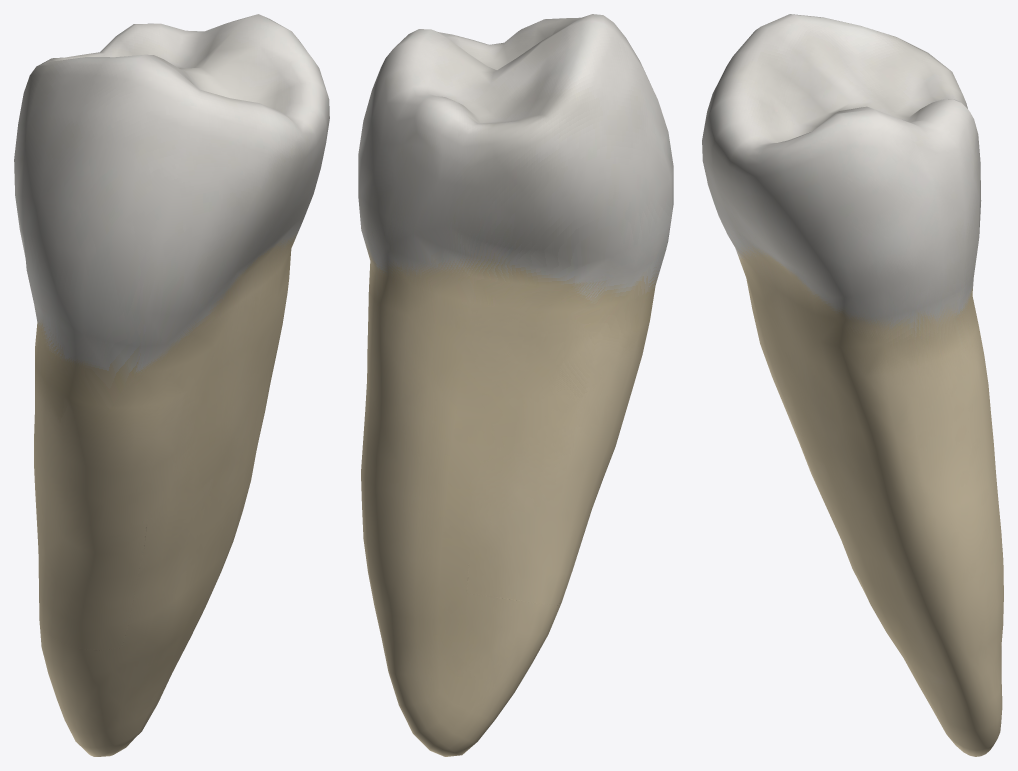
File: tooth-45.glb
The picture shows the model from 3 angles, left to right: view 1: azimuth 30°, elevation 25°; view 2: azimuth 150°, elevation 25°; view 3: azimuth 270°, elevation 25°; orthographic projection. The views are drawn at different scales.
Parts seen in each view (by area): view 1: ZBrushPolyMesh3D4_Mandible_ll5_0; view 2: ZBrushPolyMesh3D4_Mandible_ll5_0; view 3: ZBrushPolyMesh3D4_Mandible_ll5_0.
Boxes of the visible parts, <box> form: ZBrushPolyMesh3D4_Mandible_ll5_0: <box>14,14,329,756</box>; ZBrushPolyMesh3D4_Mandible_ll5_0: <box>358,14,673,756</box>; ZBrushPolyMesh3D4_Mandible_ll5_0: <box>702,14,1003,756</box>.
Bounding box in the file's own units: 0.2949 × 0.7444 × 0.2872.
1 material, 1 textured.
